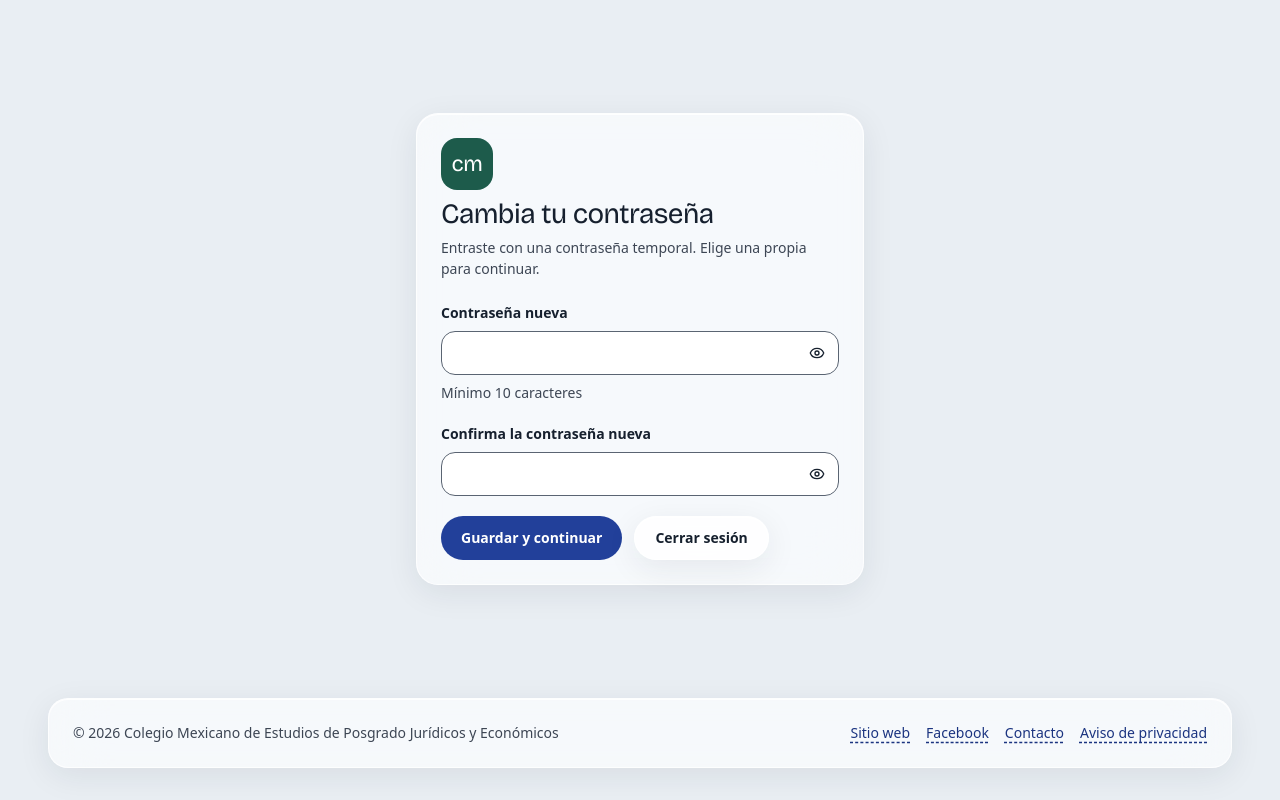
Scenario: ataque (AUTH-02b r2): 409 CAMBIO_NO_REQUERIDO sin bucles ni rebotes › 409 de un restringido: /me decide y termina en /acceso-restringido, no en su dashboard
Check: the heading "Cambia tu contraseña" is shown, box [441, 197, 714, 231]
In the password field labelled "Contraseña nueva": (640, 353) [441, 331, 839, 375], type "mi-clave-propia-r2"
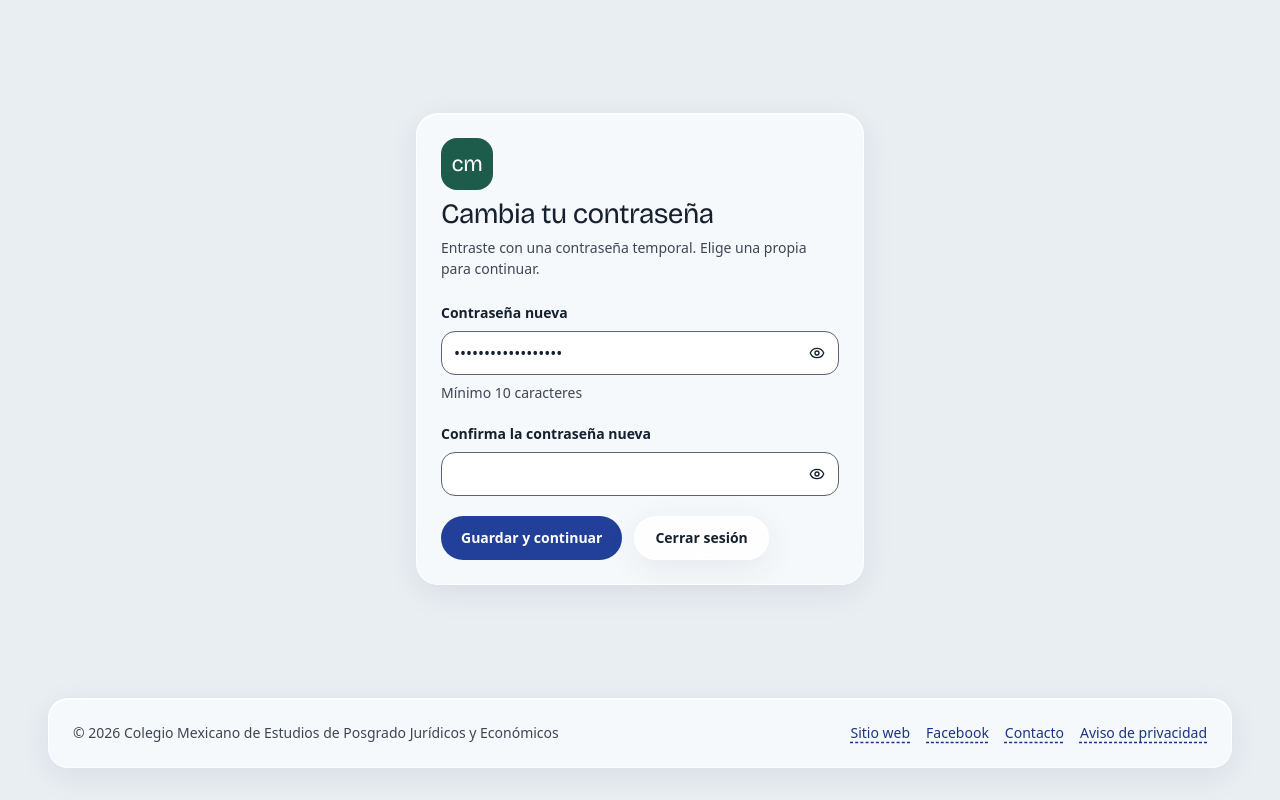
In the password field labelled "Confirma la contraseña nueva": (640, 474) [441, 452, 839, 496], type "mi-clave-propia-r2"
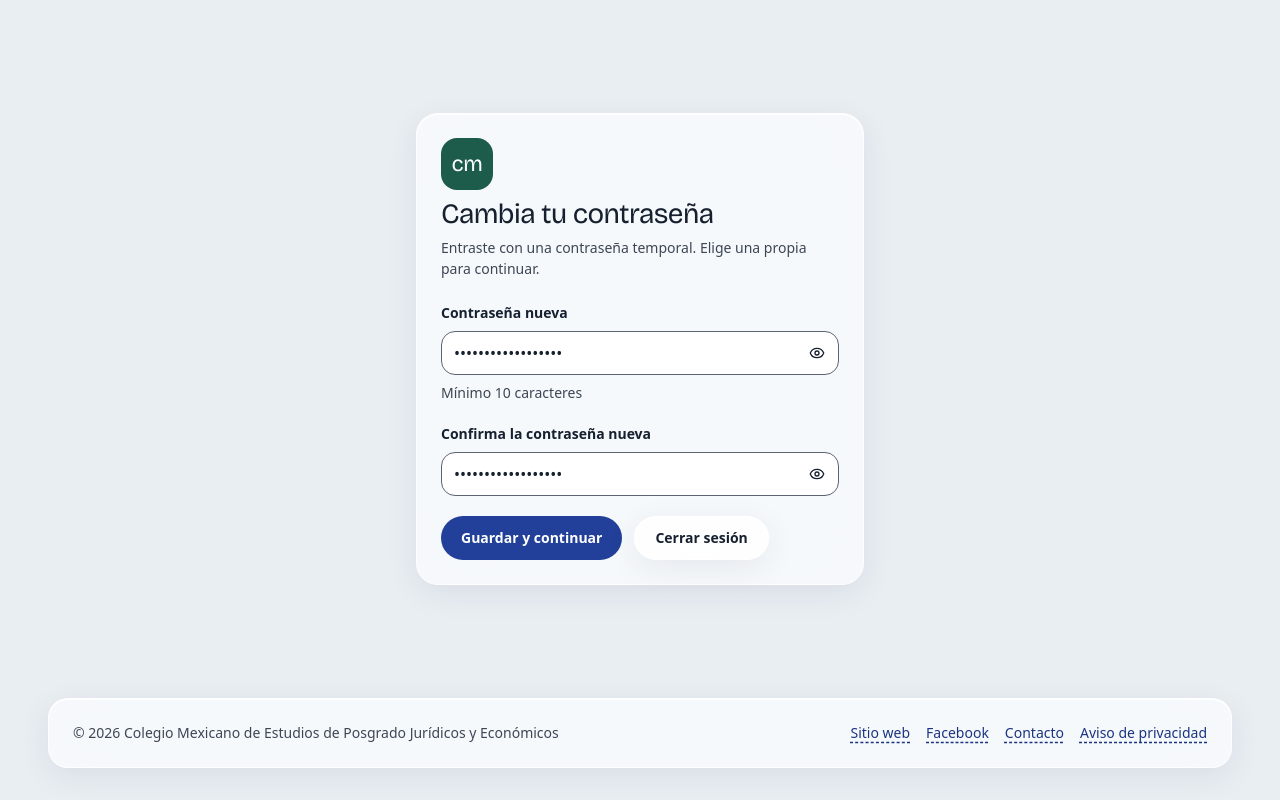
Click the button "Guardar y continuar": (532, 538) [441, 516, 622, 560]
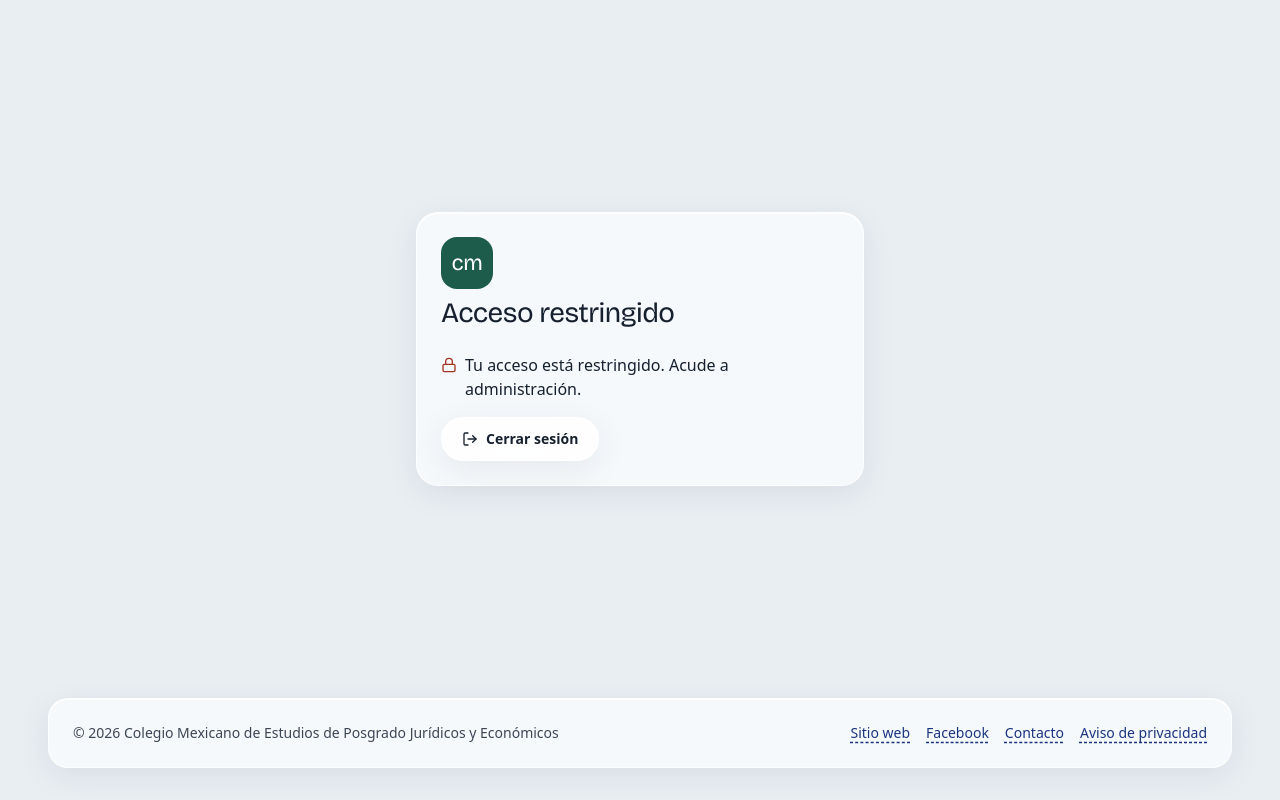
Check: the heading "Acceso restringido" is shown, box [441, 296, 674, 330]
